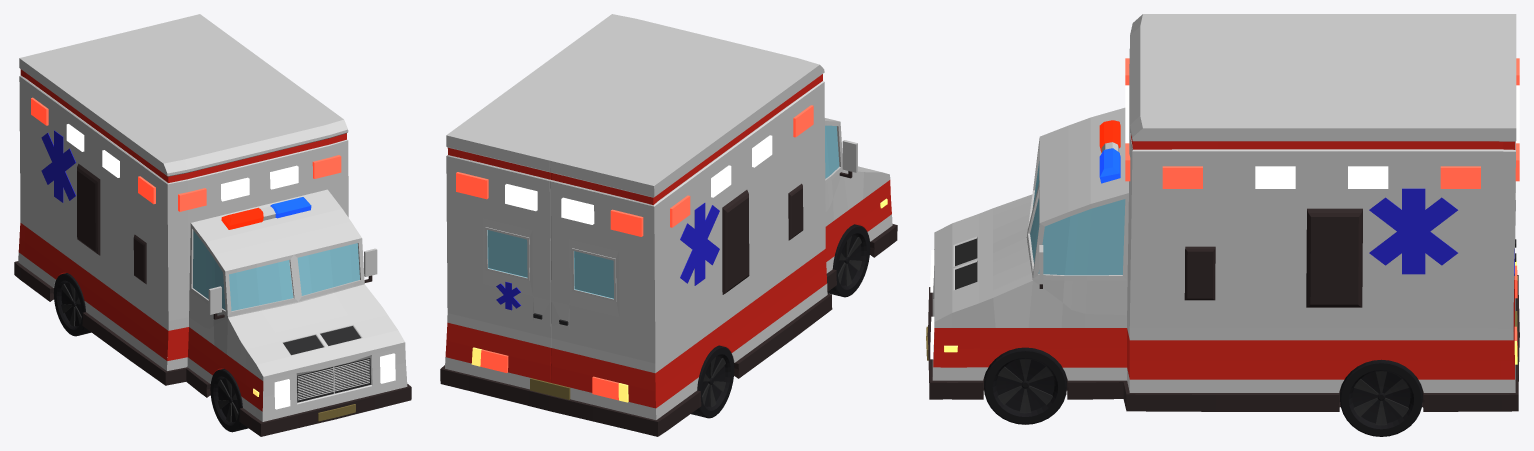
File: Ambulance.fbx
3 renders of one model, left to right at view 1: azimuth 30°, elevation 25°; view 2: azimuth 150°, elevation 25°; view 3: azimuth 270°, elevation 25°, orthographic. The views are drawn at different scales.
Visible parts, largest first — view 1: Ambulance, Ambulance_Wheel1, Ambulance_Wheel4; view 2: Ambulance, Ambulance_Wheel1, Ambulance_Wheel4; view 3: Ambulance, Ambulance_Wheel2, Ambulance_Wheel3.
Part boxes in pixels (x1,y1,x2,y2): Ambulance: (14,14,411,436); Ambulance_Wheel1: (210,369,248,432); Ambulance_Wheel4: (53,273,91,336); Ambulance: (440,14,897,436); Ambulance_Wheel1: (827,224,870,297); Ambulance_Wheel4: (691,345,734,418); Ambulance: (926,14,1519,411); Ambulance_Wheel2: (984,347,1066,424); Ambulance_Wheel3: (1340,359,1422,436).
Bounding box in the file's own units: 2.37 × 2.81 × 4.92.
